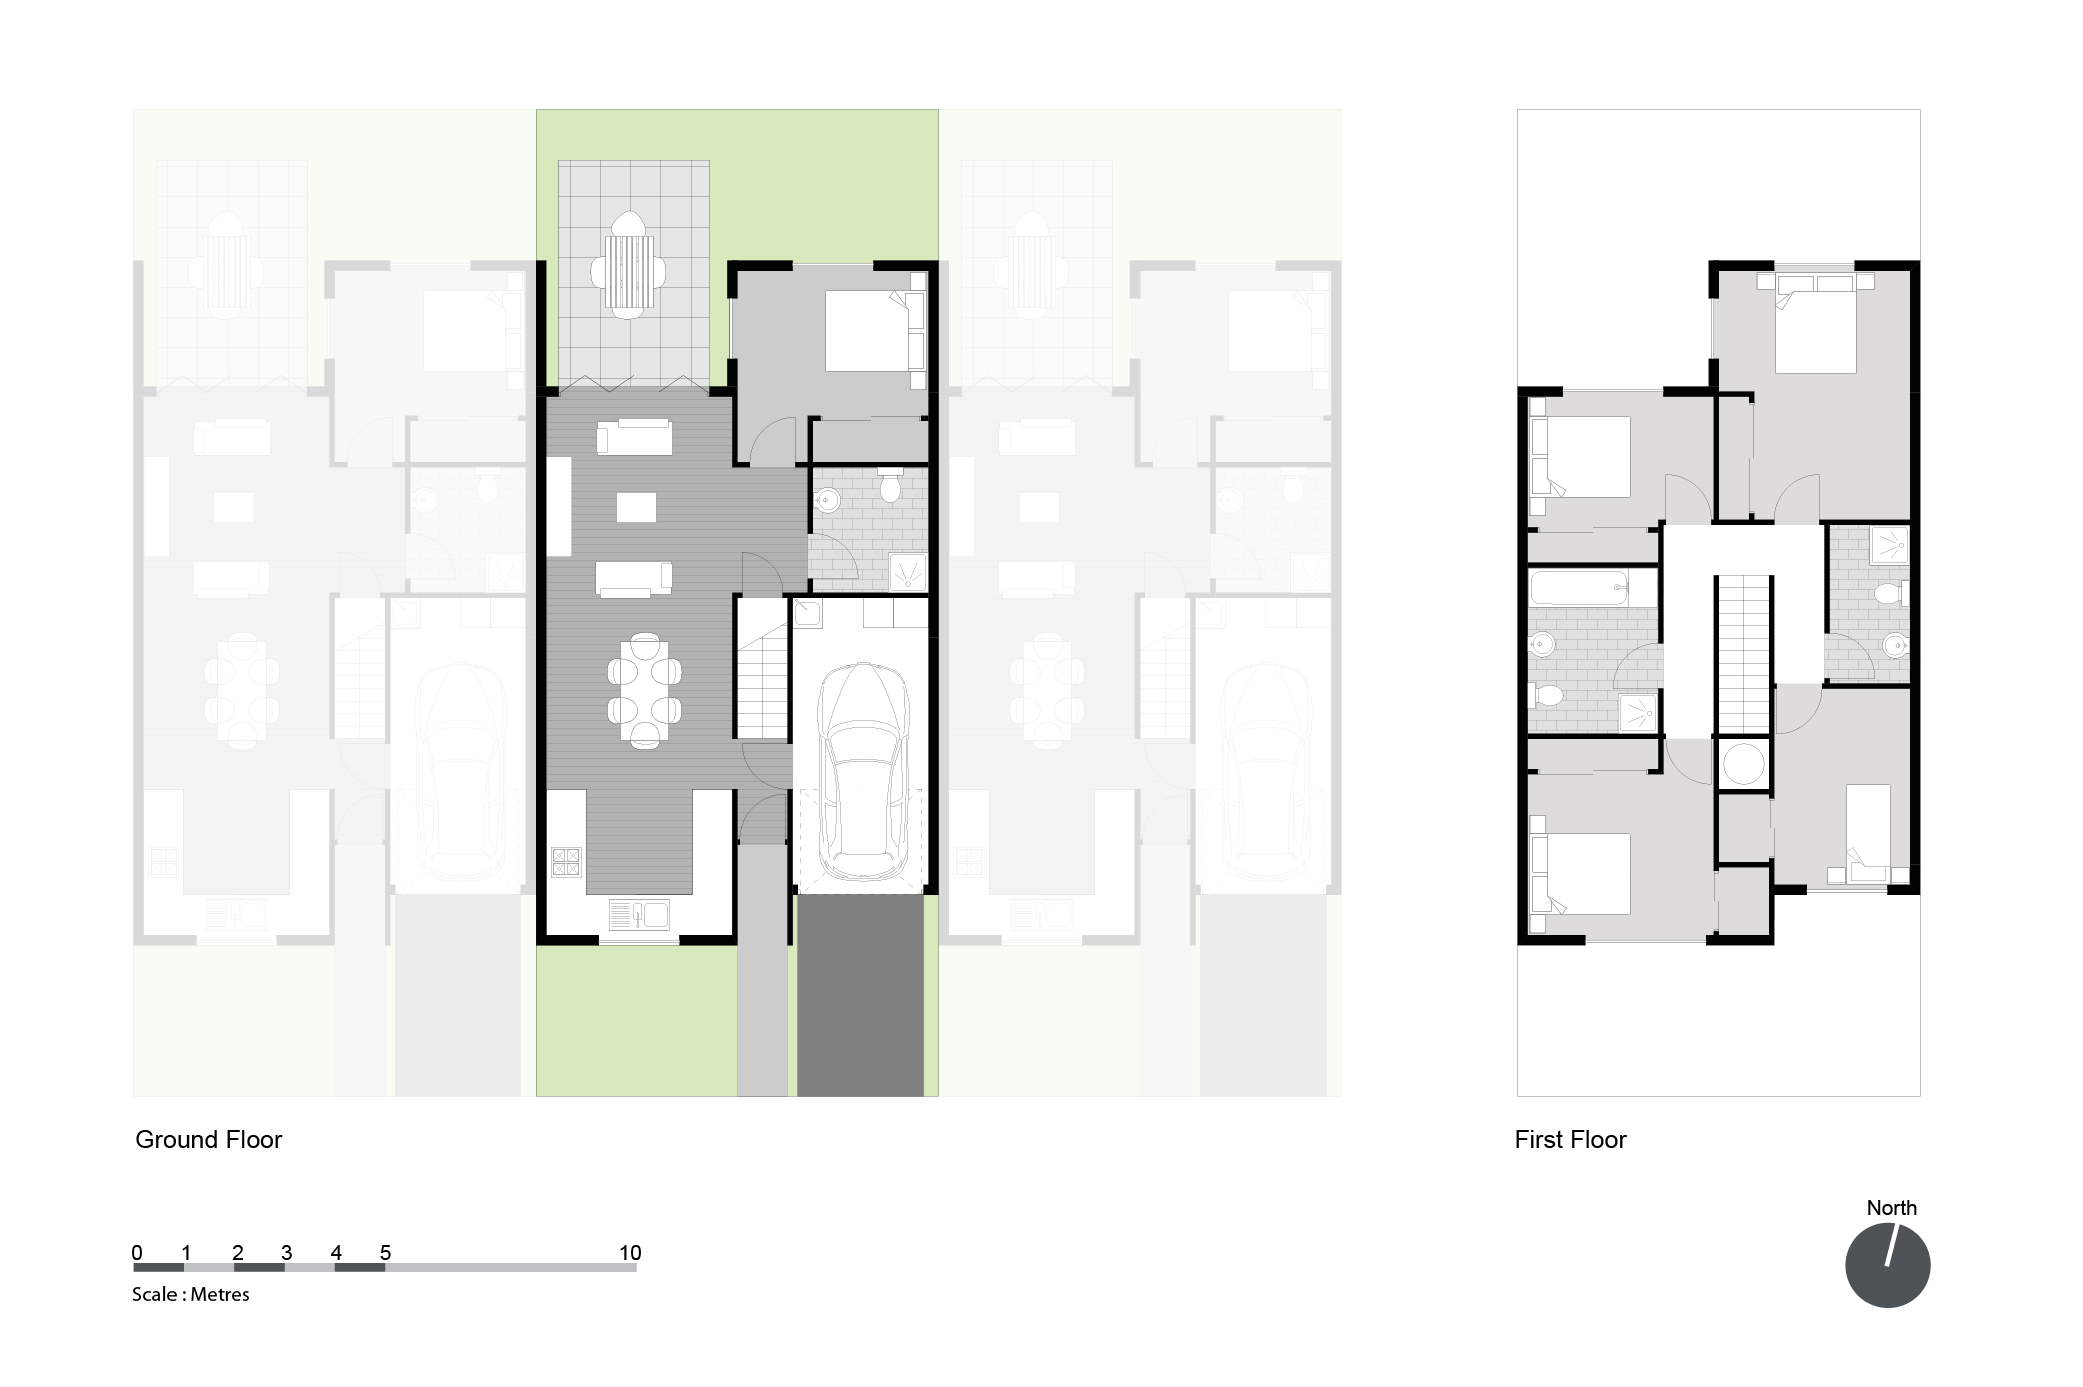door: (744, 415, 799, 464), (737, 548, 785, 598), (1665, 741, 1715, 789), (1772, 686, 1821, 734), (741, 738, 789, 786), (740, 793, 788, 841), (1661, 471, 1708, 517), (1773, 474, 1821, 520)
